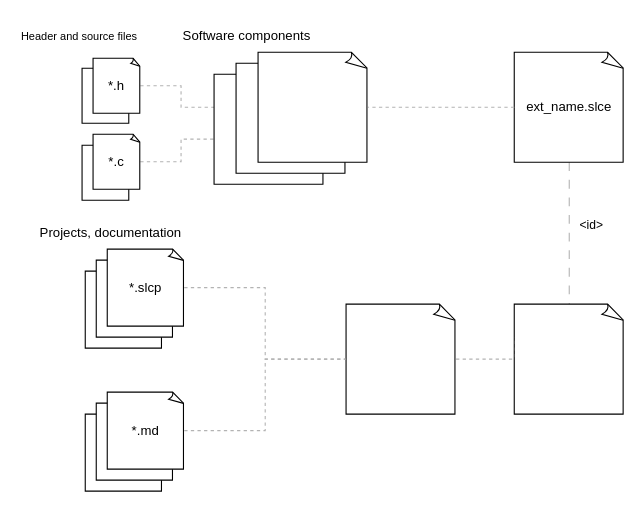
Some shapes in this 644 by 510 pixel diagram are drawn without their labels. The centre of each missing label's shape, as x and y in pixels:
*.slcc: [312,106]
ext_name.slsdk: [568,358]
templates.xml: [400,358]
